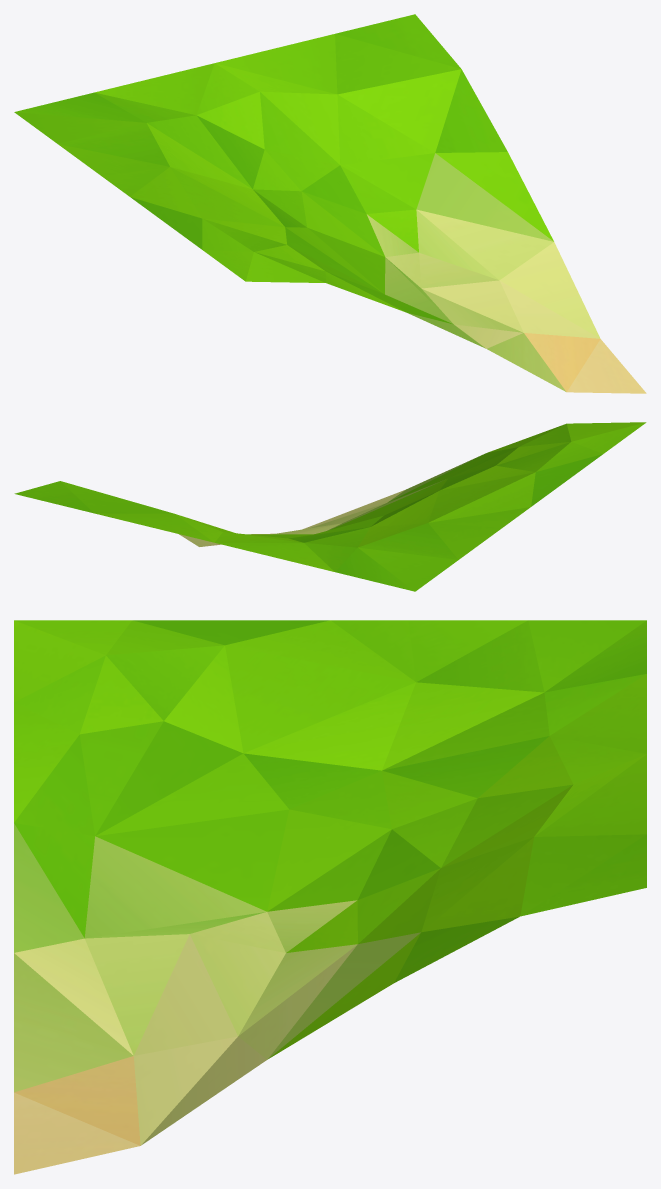
Rendered from GL-Terrain-part-20-LOD2.fbx.
The picture shows the model from 3 angles, top to bottom: view 1: azimuth 30°, elevation 25°; view 2: azimuth 150°, elevation 25°; view 3: azimuth 270°, elevation 25°; orthographic projection. The views are drawn at different scales.
Visible parts, largest first — view 1: GL_Terrain_part_20; view 2: GL_Terrain_part_20; view 3: GL_Terrain_part_20.
Boxes of the visible parts, <box> form: GL_Terrain_part_20: <box>14,14,646,393</box>; GL_Terrain_part_20: <box>14,422,646,591</box>; GL_Terrain_part_20: <box>14,620,646,1174</box>.
Bounding box in the file's own units: 6 × 3 × 6.
